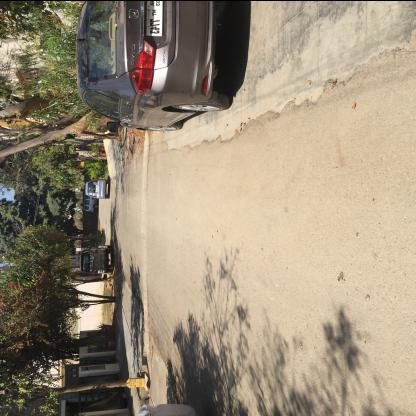speed-bumps: (134, 132, 156, 346)
